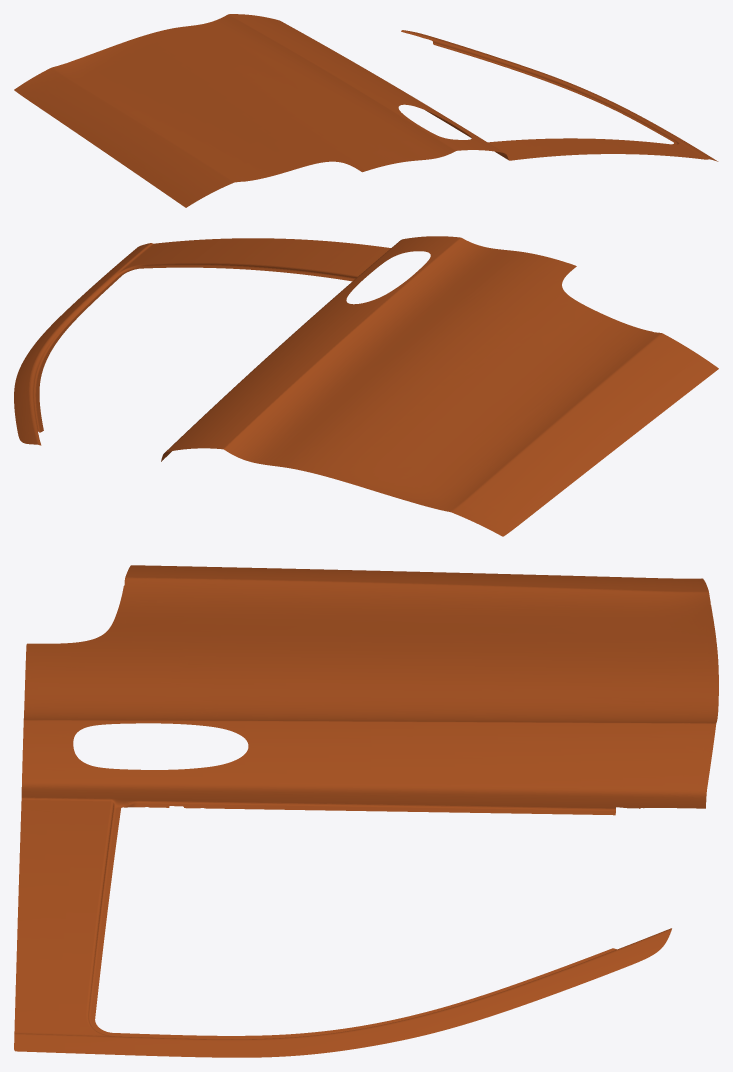
The model's file is car_door.obj.
3 renders of one model, top to bottom at view 1: azimuth 30°, elevation 25°; view 2: azimuth 150°, elevation 25°; view 3: azimuth 270°, elevation 25°, orthographic. The views are drawn at different scales.
Visible parts, largest first — view 1: Puerta_Vito; view 2: Puerta_Vito; view 3: Puerta_Vito.
Boxes of the visible parts, box(x1,y1,x2,y2) form: Puerta_Vito: box(14, 14, 718, 207); Puerta_Vito: box(14, 236, 718, 536); Puerta_Vito: box(14, 565, 718, 1057).
Size of the model in its own units: 1.44 by 0.2248 by 1.07.
